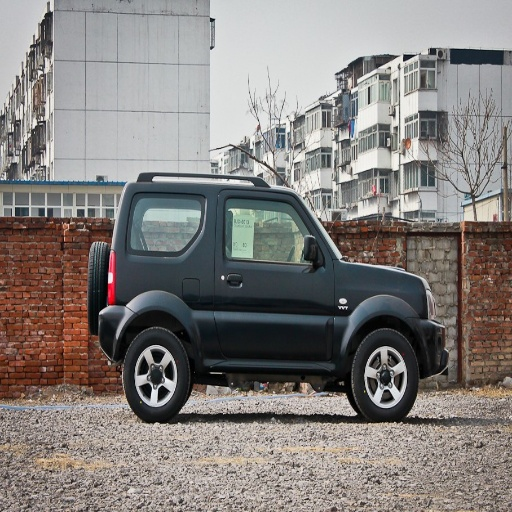back_right_door: (181, 186, 252, 356)
